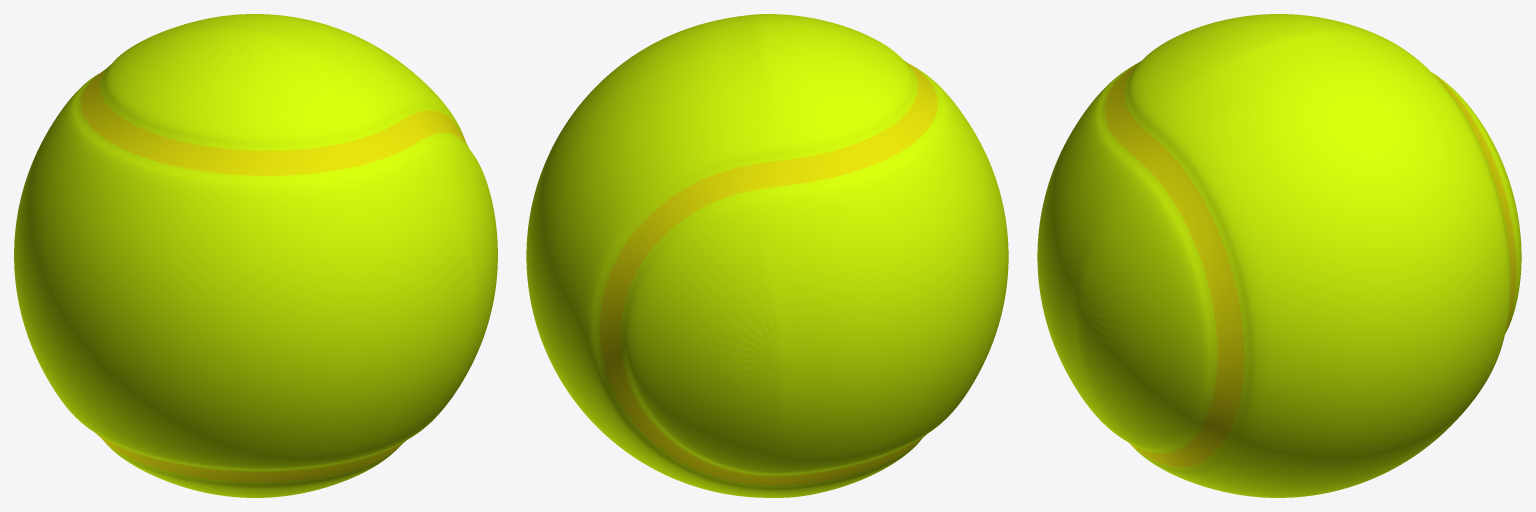
File: balle.fbx
The picture shows the model from 3 angles, left to right: view 1: azimuth 30°, elevation 25°; view 2: azimuth 150°, elevation 25°; view 3: azimuth 270°, elevation 25°; orthographic projection.
Parts seen in each view (by area): view 1: Sphere; view 2: Sphere; view 3: Sphere.
Boxes of the visible parts, bbox=[...] form: Sphere: bbox=[14, 14, 497, 497]; Sphere: bbox=[526, 14, 1008, 497]; Sphere: bbox=[1037, 14, 1521, 497].
Bounding box in the file's own units: 141 × 141 × 141.
